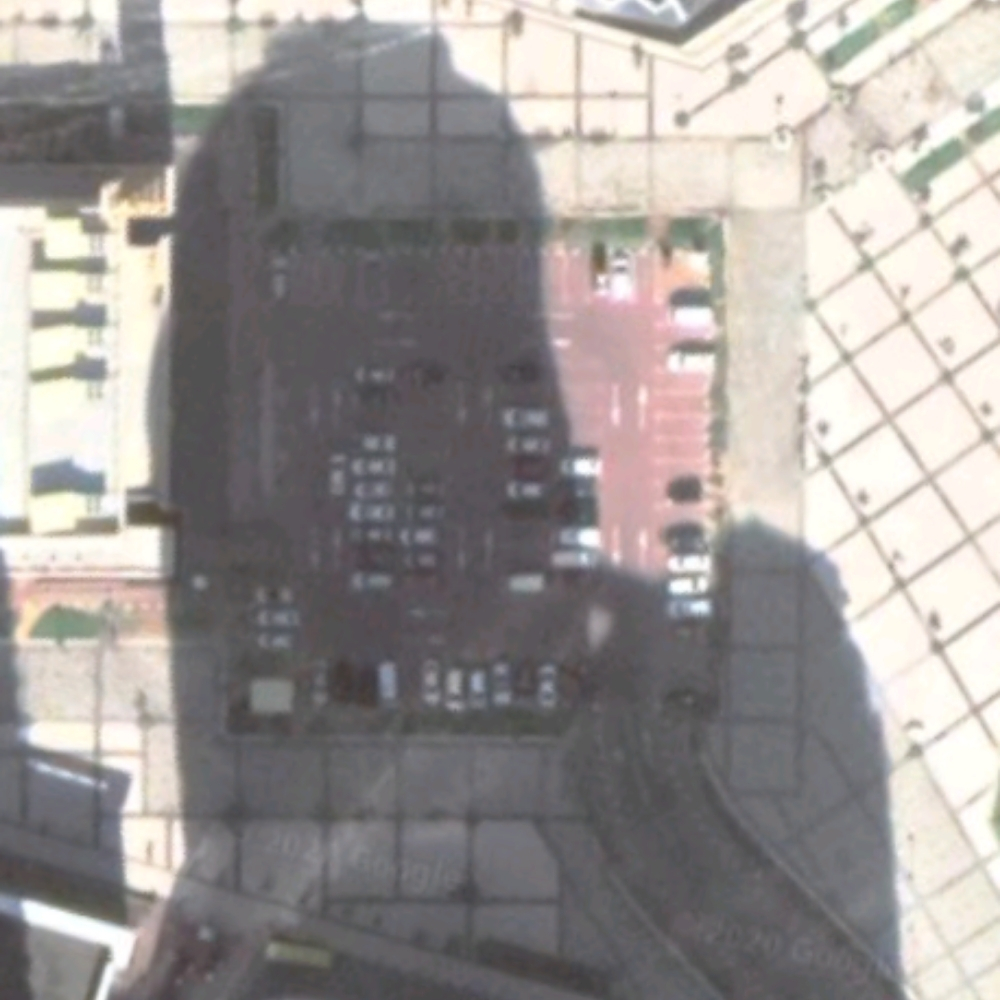parking: (225, 215, 715, 730)
